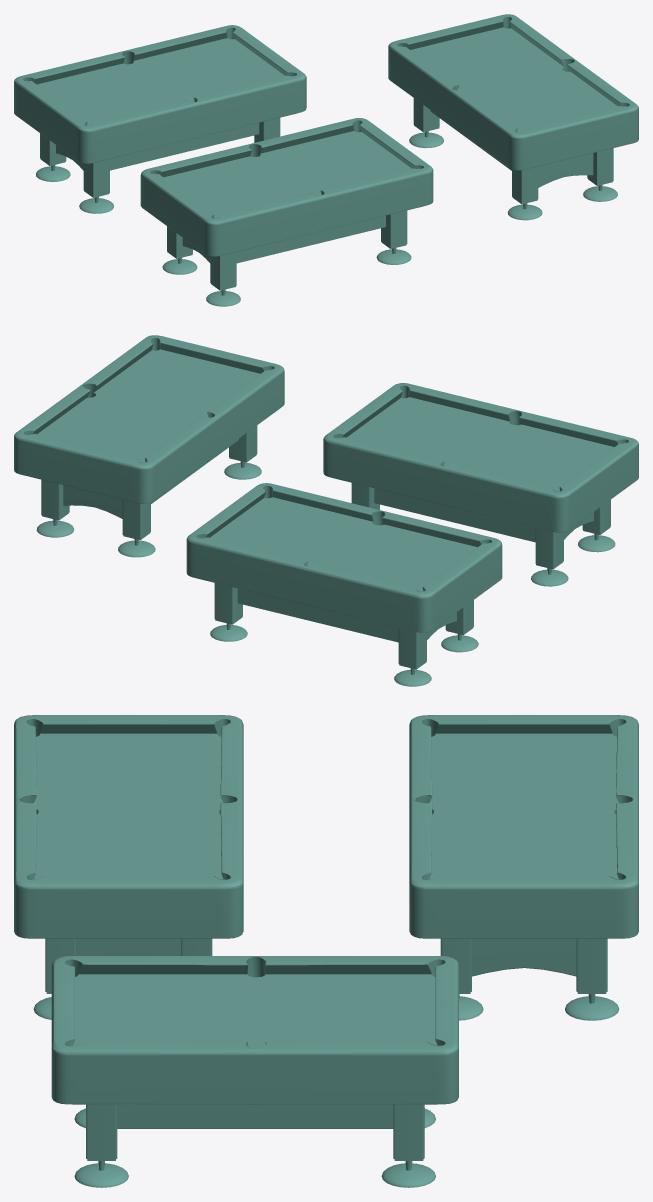
The model's file is Mesa_De_Pool_Todas.fbx.
The picture shows the model from 3 angles, top to bottom: view 1: azimuth 30°, elevation 25°; view 2: azimuth 150°, elevation 25°; view 3: azimuth 270°, elevation 25°; orthographic projection. The views are drawn at different scales.
Visible parts, largest first — view 1: Mesa_de_pool_Base (×3), patas (×3), madera2 (×2), madera4; view 2: Mesa_de_pool_Base (×3), patas (×3), madera3 (×2), madera1; view 3: Mesa_de_pool_Base (×3), patas (×3), madera3, madera4 (×2).
Boxes of the visible parts, x1,y1,x2,y2 form: Mesa_de_pool_Base (×3): (14,14,638,256); patas (×3): (36,98,617,306); madera2 (×2): (110,123,385,263); madera4: (538,153,593,187); Mesa_de_pool_Base (×3): (14,335,638,632); patas (×3): (36,425,615,686); madera3 (×2): (237,488,535,642); madera1: (63,485,122,518); Mesa_de_pool_Base (×3): (14,715,638,1104); patas (×3): (33,938,619,1187); madera3: (117,1104,393,1128); madera4 (×2): (76,938,576,976).
Size of the model in its own units: 482 by 96.46 by 377.
